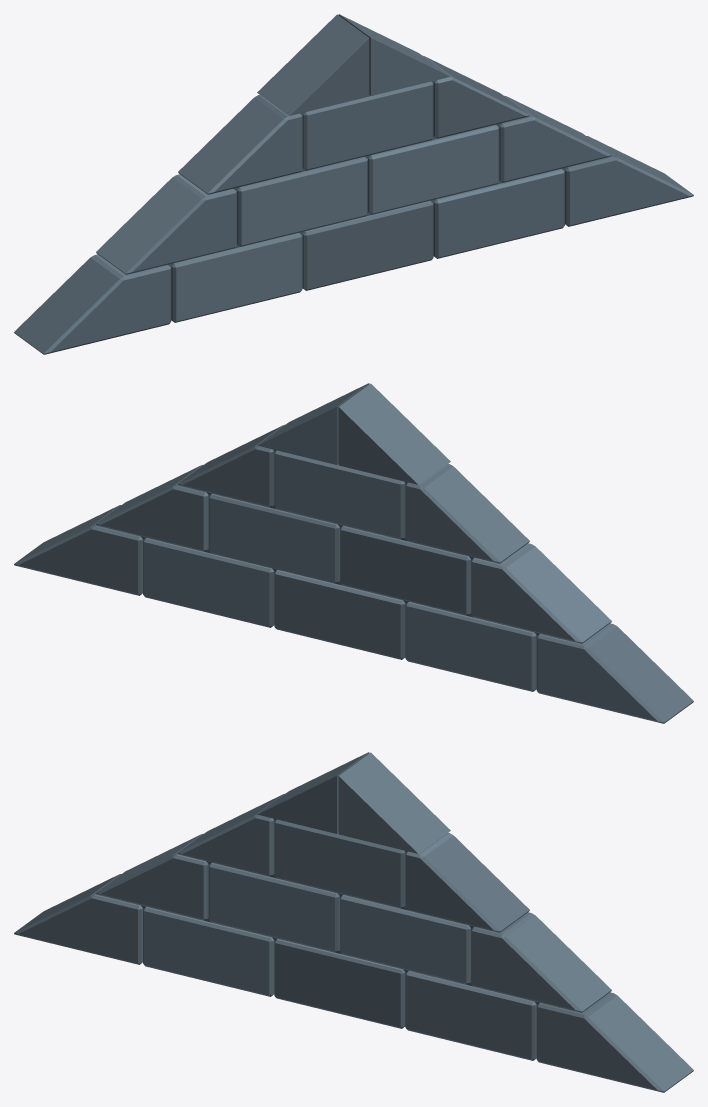
Rendered from A15_Gable_4m.fbx.
3 views of the same model, one above another, from view 1: azimuth 30°, elevation 25°; view 2: azimuth 150°, elevation 25°; view 3: azimuth 330°, elevation 25° (orthographic).
Visible parts, largest first — view 1: A15_Gable_4m; view 2: A15_Gable_4m; view 3: A15_Gable_4m.
Part boxes in pixels (left/top/right/bottom): A15_Gable_4m: left=14, top=14, right=693, bottom=354; A15_Gable_4m: left=14, top=383, right=693, bottom=723; A15_Gable_4m: left=14, top=752, right=693, bottom=1092.
Bounding box in the file's own units: 3.97 × 1.39 × 0.34.
Materials: 1 (1 with a texture image).
